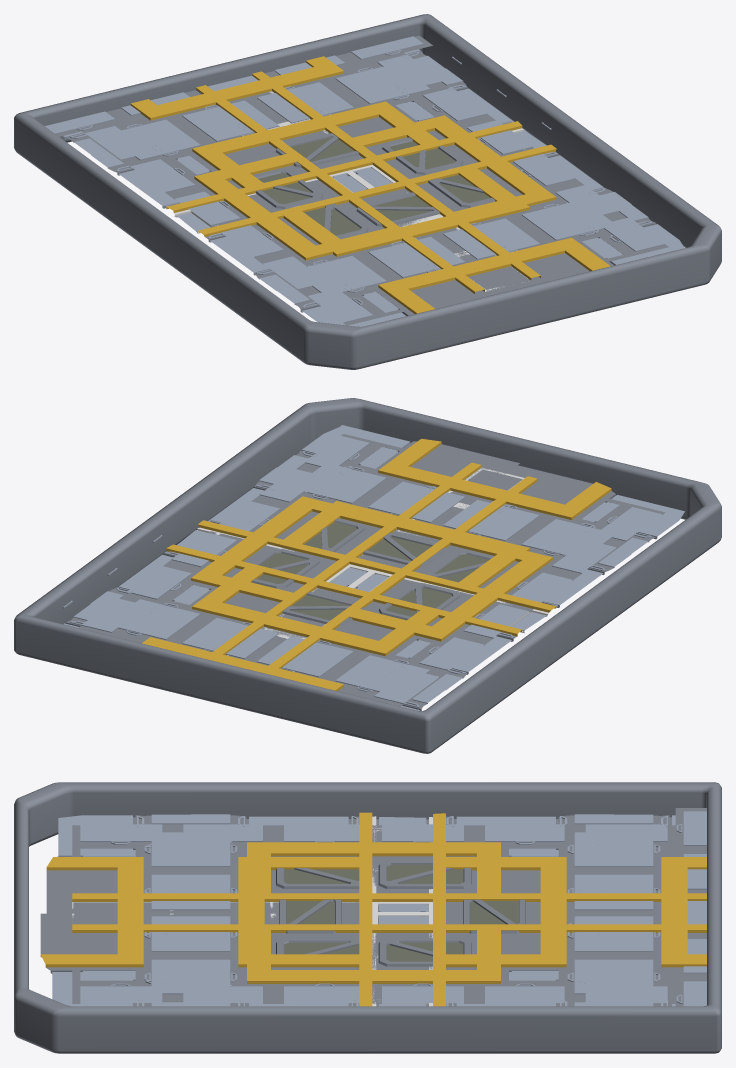
Rendered from Ground.fbx.
3 views of the same model, one above another, from view 1: azimuth 30°, elevation 25°; view 2: azimuth 150°, elevation 25°; view 3: azimuth 270°, elevation 25° (orthographic). The views are drawn at different scales.
Parts seen in each view (by area): view 1: pCube95 (×6), Border, pCube100 (×8), pPlane1 (×6), pCube87 (×5); view 2: pCube95 (×6), Border, pCube100 (×6), pPlane1 (×6), pCube87 (×5); view 3: pCube95 (×6), Border, pCube100 (×8), pCube87 (×6), pPlane1 (×6).
Part boxes in pixels (bbox=[...]): pCube95 (×6): bbox=[63, 68, 684, 293]; Border: bbox=[14, 14, 721, 369]; pCube100 (×8): bbox=[45, 36, 631, 326]; pPlane1 (×6): bbox=[258, 137, 489, 235]; pCube87 (×5): bbox=[253, 133, 495, 226]; pCube95 (×6): bbox=[90, 425, 556, 710]; Border: bbox=[14, 398, 721, 753]; pCube100 (×6): bbox=[64, 465, 684, 666]; pPlane1 (×6): bbox=[257, 522, 488, 620]; pCube87 (×5): bbox=[252, 532, 493, 625]; pCube95 (×6): bbox=[40, 812, 706, 1006]; Border: bbox=[14, 782, 721, 1053]; pCube100 (×8): bbox=[46, 808, 706, 1006]; pCube87 (×6): bbox=[276, 860, 525, 966]; pPlane1 (×6): bbox=[284, 864, 518, 961].
Bounding box in the file's own units: 410 × 36.61 × 530.
